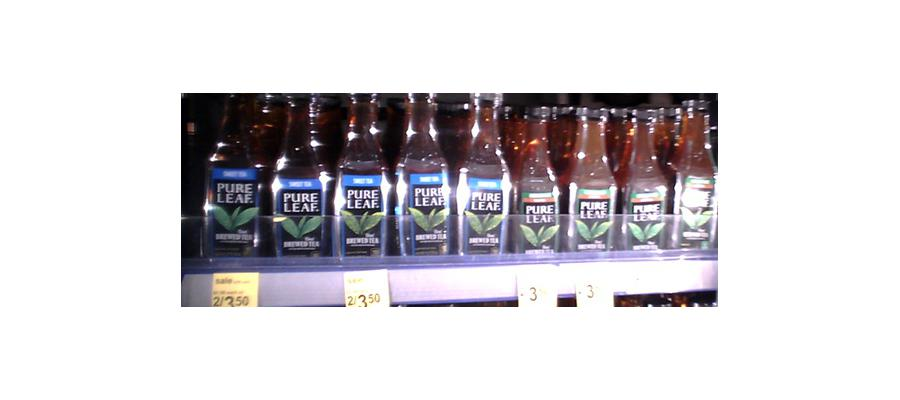bottle: (265, 95, 331, 258), (202, 99, 263, 262), (332, 88, 390, 257), (393, 95, 452, 258), (453, 93, 511, 257), (563, 101, 618, 260), (511, 103, 562, 262), (619, 105, 668, 255), (674, 97, 718, 247)
